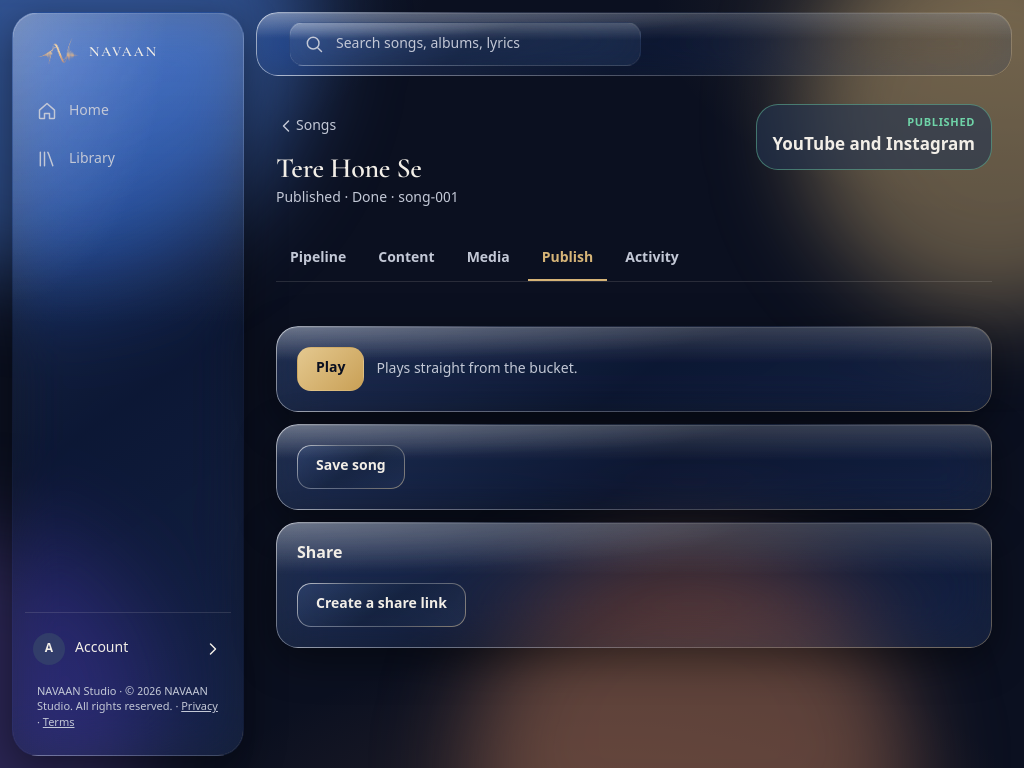
playing a song › says so when the play link cannot be made
What coordinates should you click on to do the following:
click the button "Play"
I would click on:
 (331, 369)
Its box is [297,347,364,391].
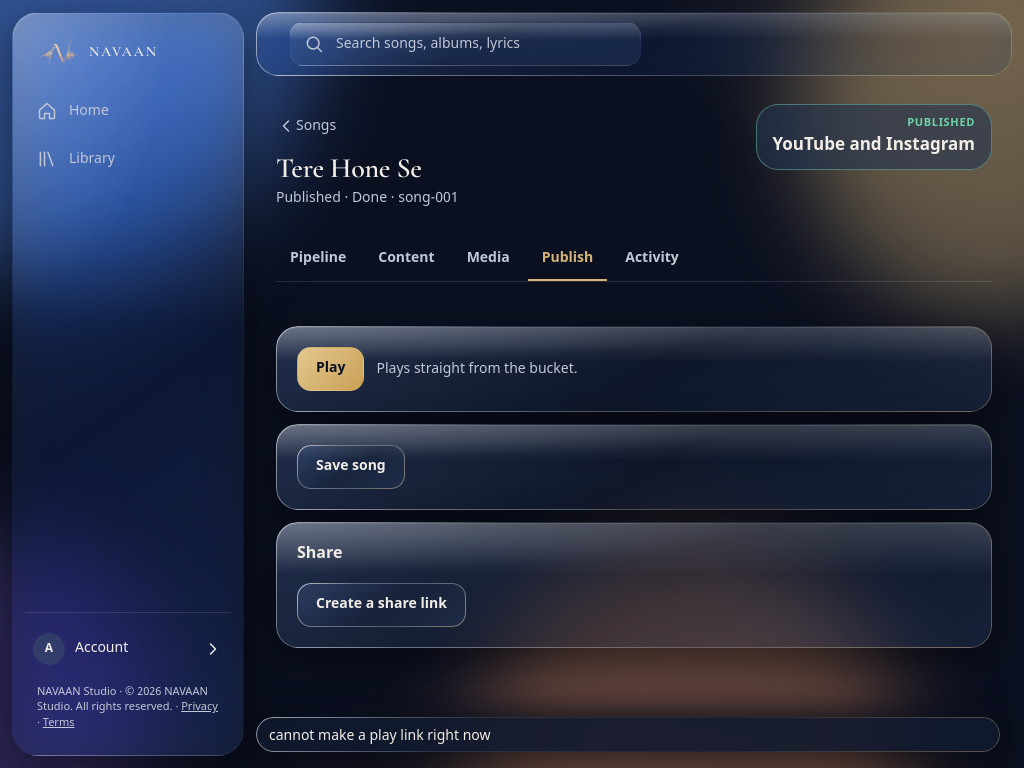
Check: the text "cannot make a play link right now" is shown, box [269,727,490,746]
